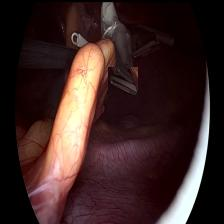Grasper: (132, 12, 174, 57), (107, 66, 136, 94)
Specimen Bag: (98, 0, 133, 68)
